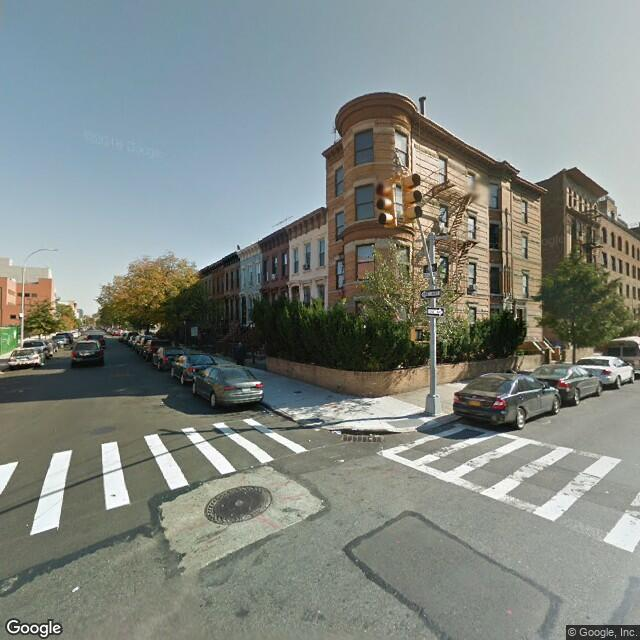litter: (325, 424, 348, 440)
